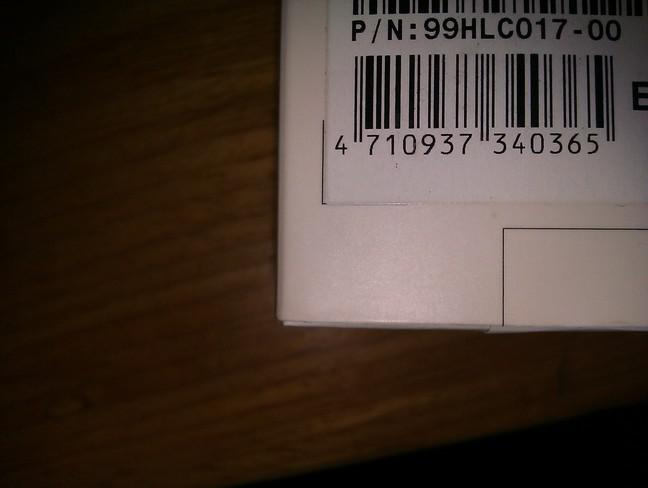Barkod: (325, 47, 622, 165)
